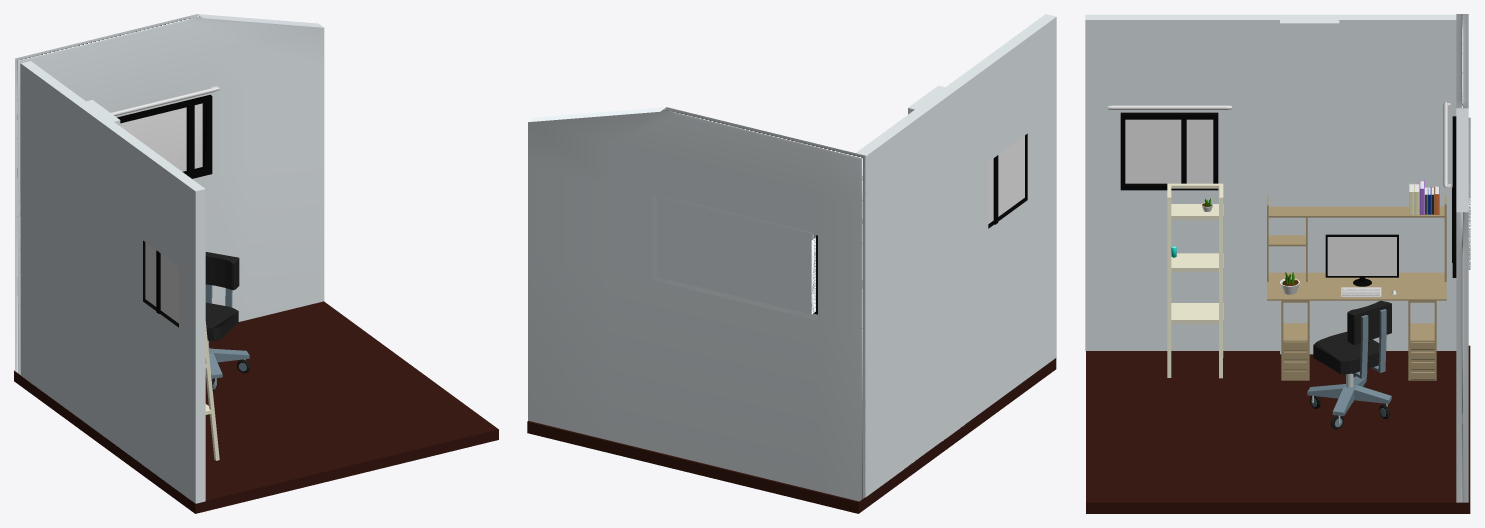
The model's file is addieroom_v2.glb.
3 renders of one model, left to right at view 1: azimuth 30°, elevation 25°; view 2: azimuth 150°, elevation 25°; view 3: azimuth 270°, elevation 25°, orthographic. The views are drawn at different scales.
Parts seen in each view (by area): view 1: Wall1, wall2, Floor, OfficeChair, displayshelf, Metalbar2; view 2: wall2, Wall1, Floor; view 3: Wall1, Floor, Desk, wall2, OfficeChair, displayshelf, Monitor, books, Metalbar1, Metalbar2, Keyboard.
Boxes of the visible parts, x1=… form: Wall1: x1=20, y1=61, x2=205, y2=503; wall2: x1=15, y1=14, x2=324, y2=374; Floor: x1=14, y1=301, x2=498, y2=513; OfficeChair: x1=205, y1=252, x2=250, y2=391; displayshelf: x1=205, y1=322, x2=219, y2=460; Metalbar2: x1=111, y1=86, x2=219, y2=115; wall2: x1=528, y1=107, x2=865, y2=501; Wall1: x1=856, y1=14, x2=1056, y2=497; Floor: x1=527, y1=358, x2=1056, y2=513; Wall1: x1=1085, y1=14, x2=1456, y2=354; Floor: x1=1086, y1=345, x2=1470, y2=513; Desk: x1=1267, y1=195, x2=1446, y2=380; wall2: x1=1452, y1=14, x2=1470, y2=502; OfficeChair: x1=1307, y1=300, x2=1391, y2=429; displayshelf: x1=1167, y1=183, x2=1223, y2=378; Monitor: x1=1325, y1=234, x2=1398, y2=286; books: x1=1409, y1=180, x2=1439, y2=214; Metalbar1: x1=1107, y1=105, x2=1232, y2=109; Metalbar2: x1=1443, y1=101, x2=1451, y2=188; Keyboard: x1=1341, y1=287, x2=1381, y2=297.
Bounding box in the file's own units: 6 × 6.11 × 6.22.
